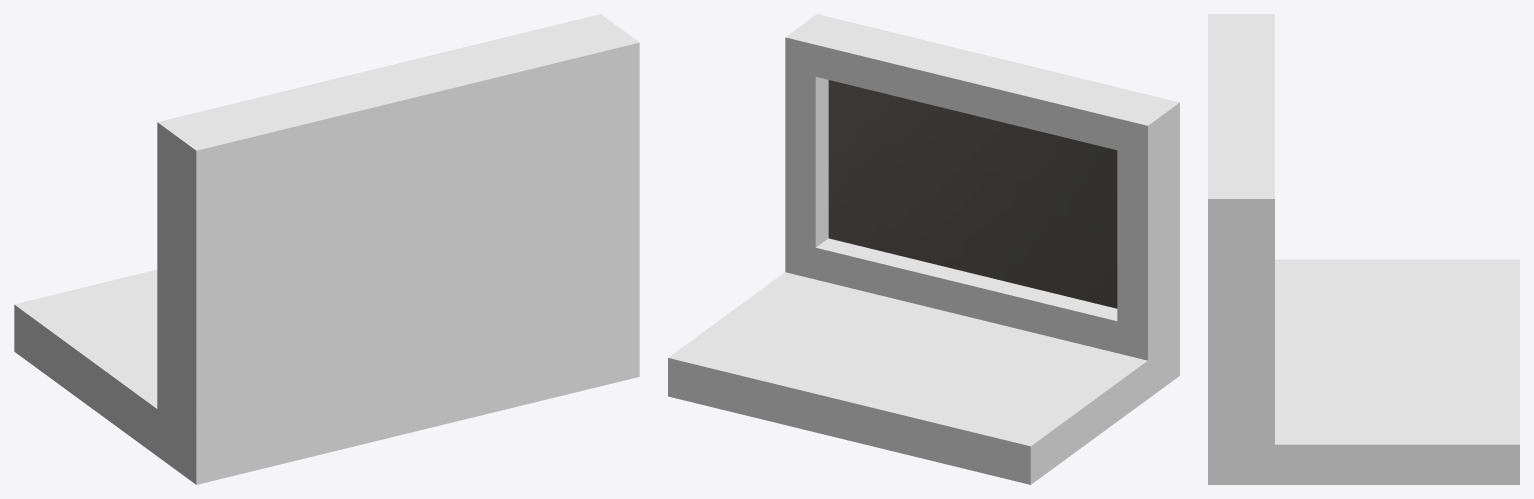
File: notecbok.fbx
3 renders of one model, left to right at view 1: azimuth 30°, elevation 25°; view 2: azimuth 150°, elevation 25°; view 3: azimuth 270°, elevation 25°, orthographic. The views are drawn at different scales.
Visible parts, largest first — view 1: Mesh; view 2: Mesh; view 3: Mesh.
Part boxes in pixels (x1,y1,x2,y2): Mesh: (14,14,639,484); Mesh: (668,14,1179,484); Mesh: (1208,14,1519,484).
Bounding box in the file's own units: 14.32 × 10.32 × 10.2.
